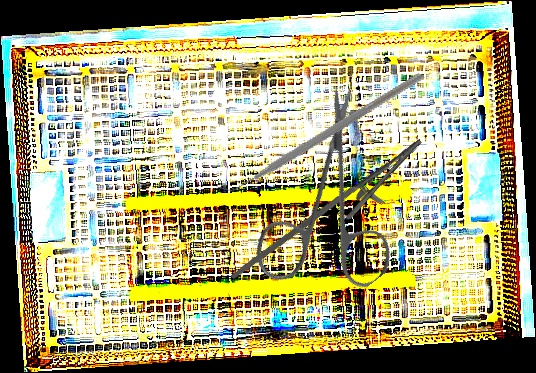Chopper: (211, 12, 426, 249)
Iris Scissors: (203, 83, 454, 332)
Needle Holder: (229, 117, 436, 314)
